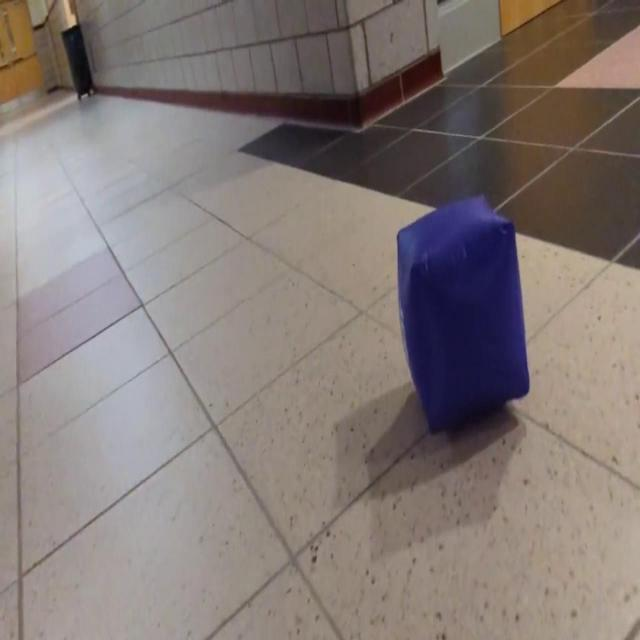frc_cube: (397, 196, 531, 430)
